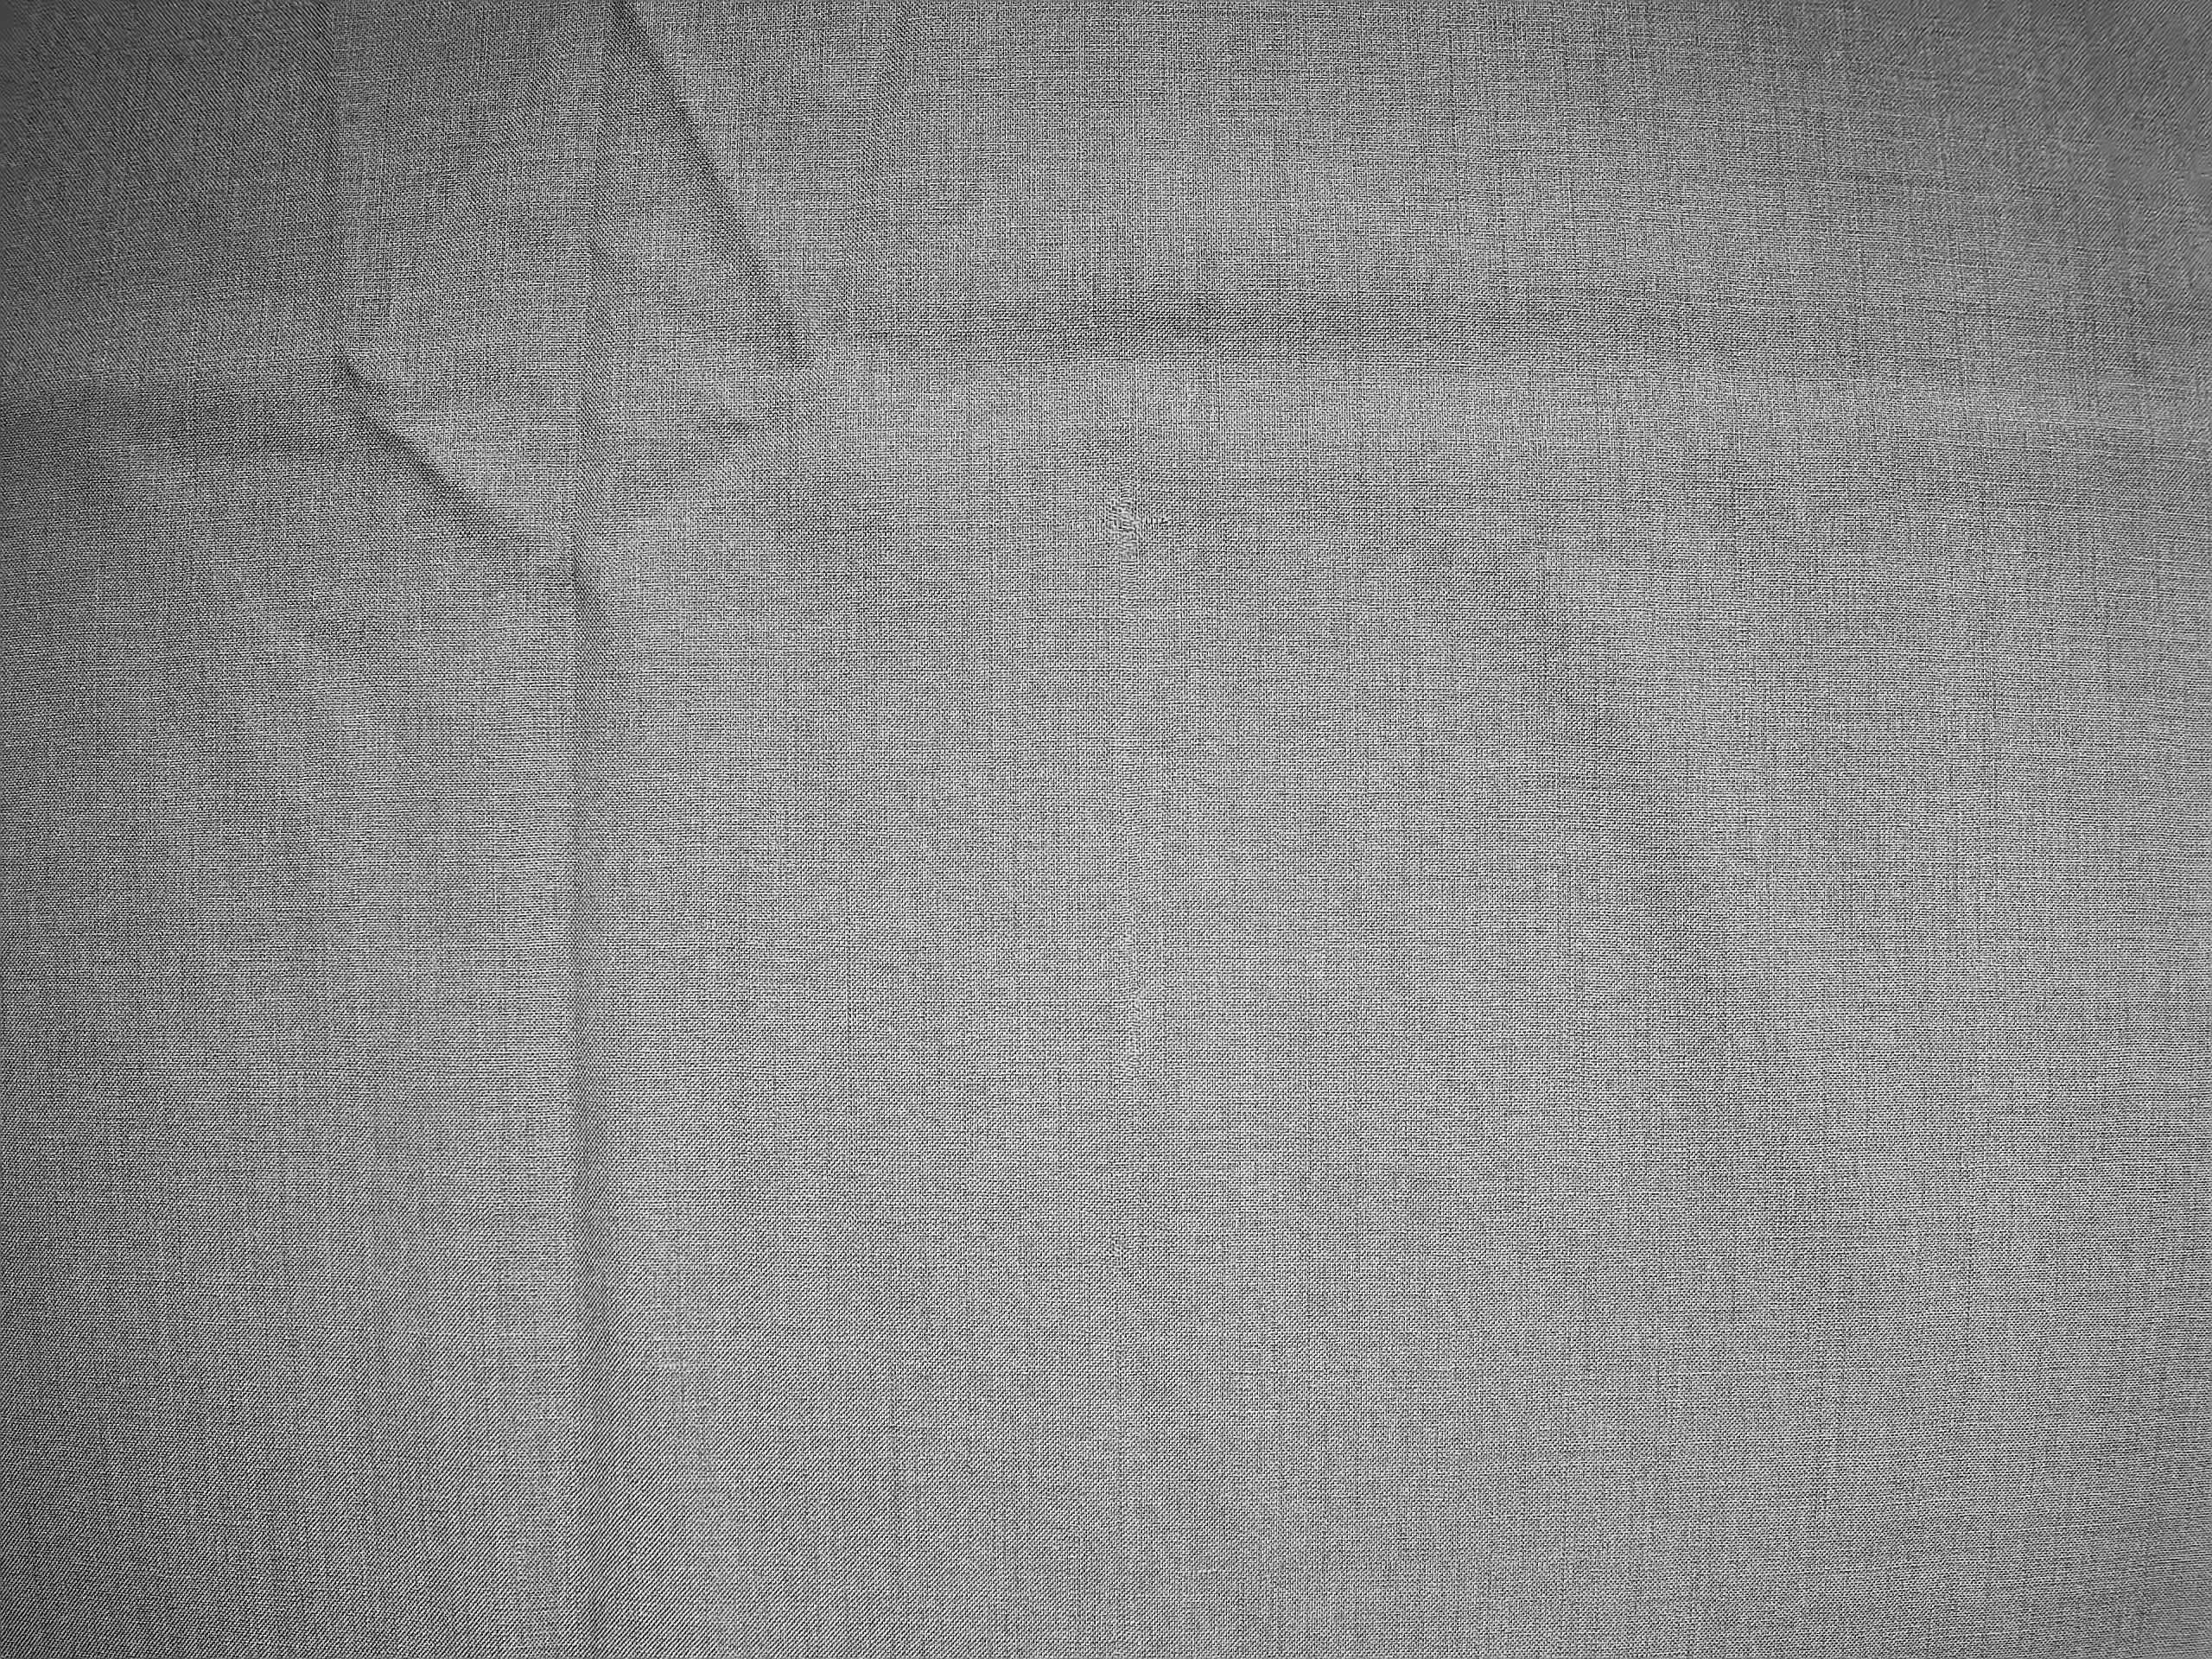knots: (1071, 477, 1177, 580)
